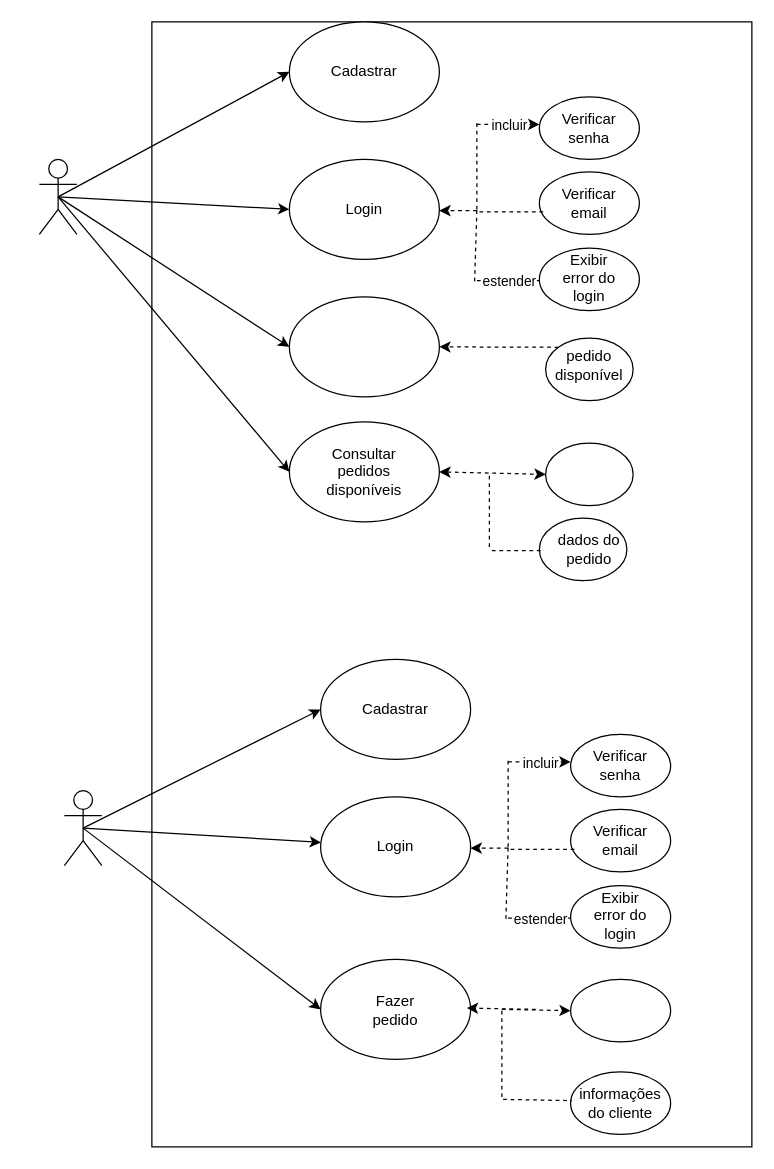
This 774x1169 diagram has some shape labels left out. Each missing label, with the centre of its shape:
Entregador: (57,196)
Estabelecimento: (82,827)
Informações do pedido: (620,1010)
pedido disponível ou não: (588,474)
Realizar entregas: (363,346)
